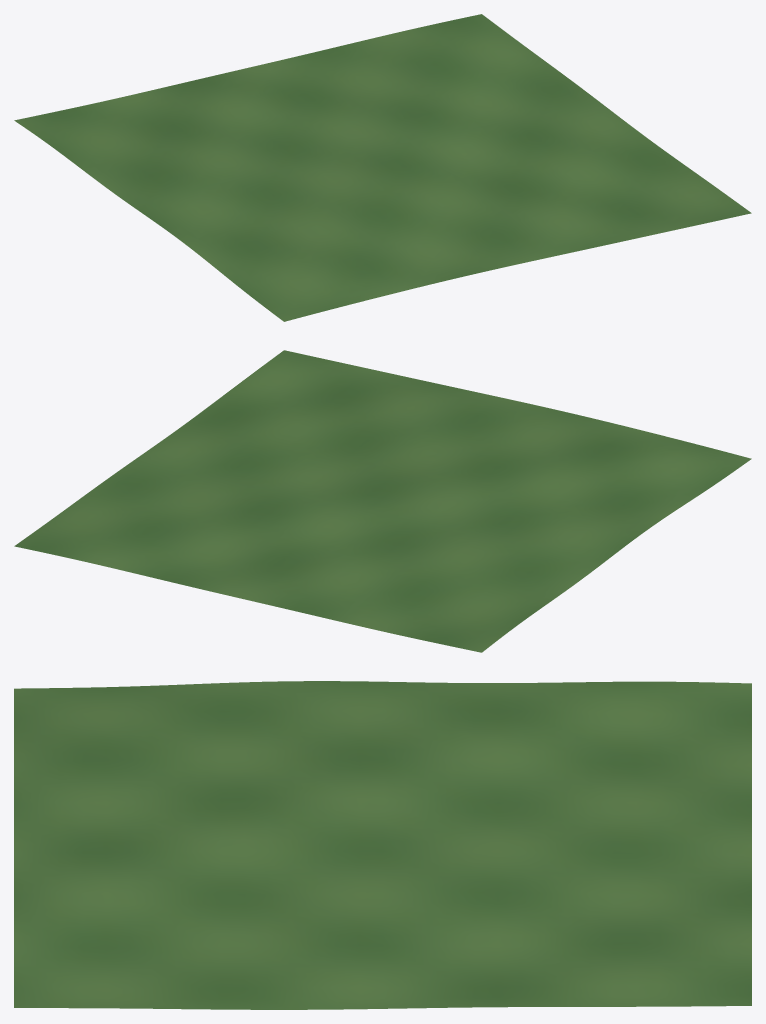
Rendered from chunk_8_8.glb.
The picture shows the model from 3 angles, top to bottom: view 1: azimuth 30°, elevation 25°; view 2: azimuth 150°, elevation 25°; view 3: azimuth 270°, elevation 25°; orthographic projection. The views are drawn at different scales.
Size of the model in its own units: 512 by 13.41 by 512.
